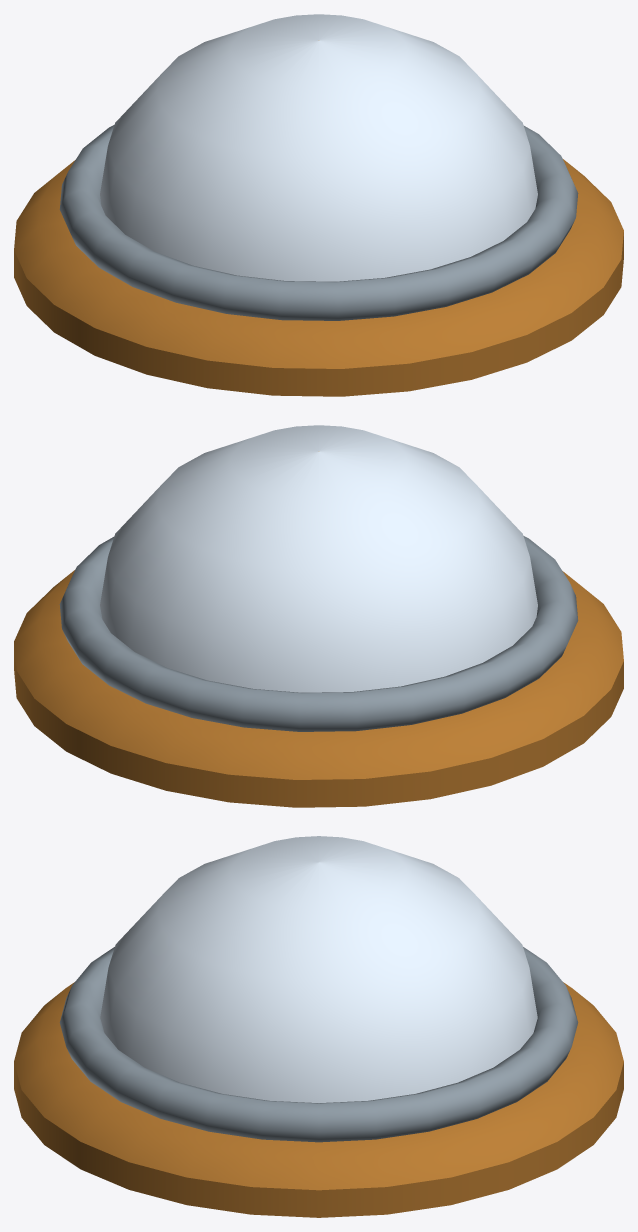
Rendered from bullet-amber.dae.
3 renders of one model, top to bottom at view 1: azimuth 30°, elevation 25°; view 2: azimuth 150°, elevation 25°; view 3: azimuth 270°, elevation 25°, orthographic.
Parts seen in each view (by area): view 1: lens, accent, metal; view 2: lens, accent, metal; view 3: lens, accent, metal.
Part boxes in pixels (<box>): lens: <box>100,14,537,281</box>; accent: <box>14,159,623,396</box>; metal: <box>59,125,578,320</box>; lens: <box>100,425,537,692</box>; accent: <box>14,570,623,807</box>; metal: <box>59,536,578,731</box>; lens: <box>100,836,537,1102</box>; accent: <box>14,982,623,1217</box>; metal: <box>59,947,578,1142</box>.
Bounding box in the file's own units: 2 × 0.82 × 2.
